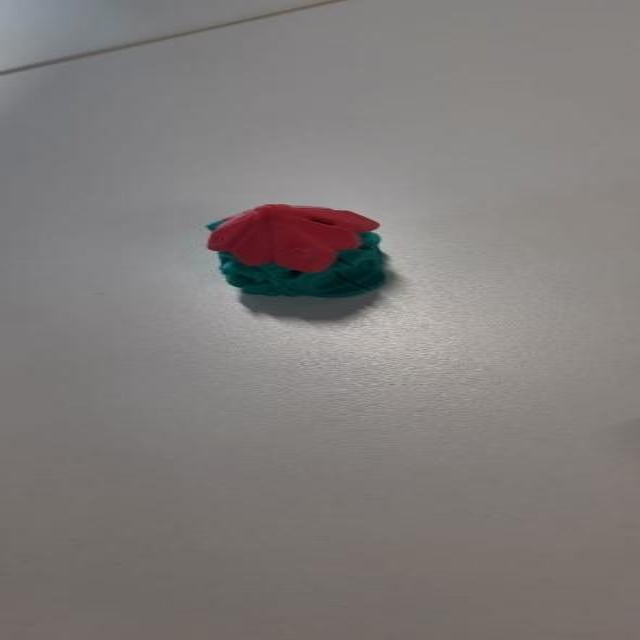House: (204, 198, 408, 305)
